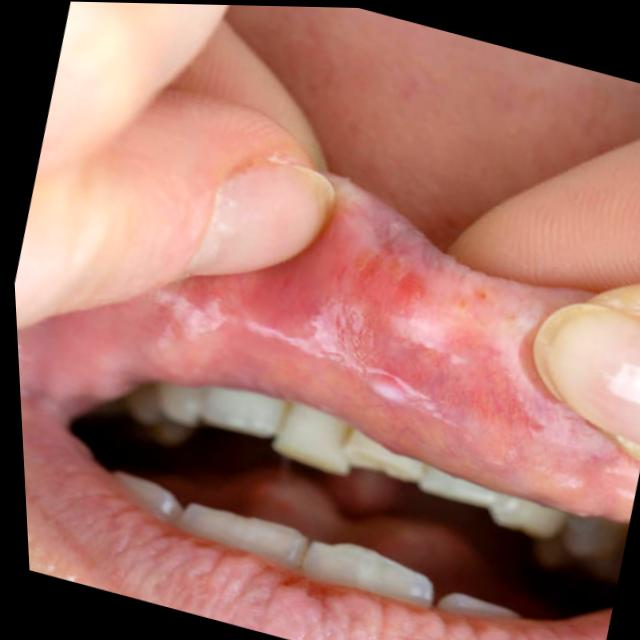ulcer: (25, 177, 640, 521)
